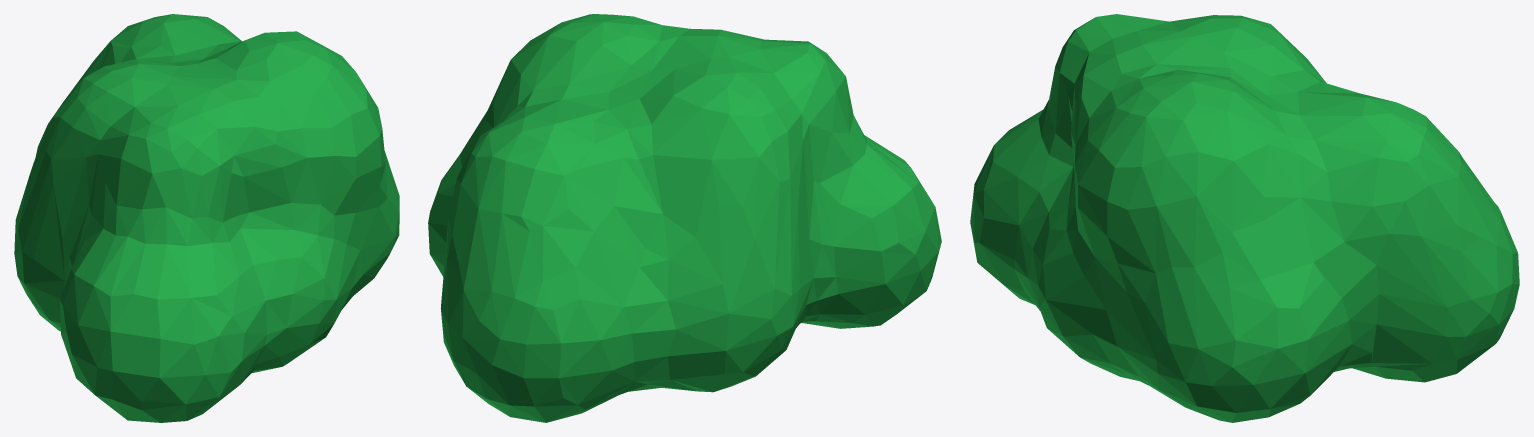
Rendered from bush2.fbx.
The picture shows the model from 3 angles, left to right: view 1: azimuth 30°, elevation 25°; view 2: azimuth 150°, elevation 25°; view 3: azimuth 270°, elevation 25°; orthographic projection. The views are drawn at different scales.
Parts seen in each view (by area): view 1: Mball.012; view 2: Mball.012; view 3: Mball.012.
Part boxes in pixels (<box>): Mball.012: <box>14,14,399,422</box>; Mball.012: <box>428,14,941,422</box>; Mball.012: <box>970,14,1519,422</box>.
Bounding box in the file's own units: 53.8 × 38.03 × 60.83.
